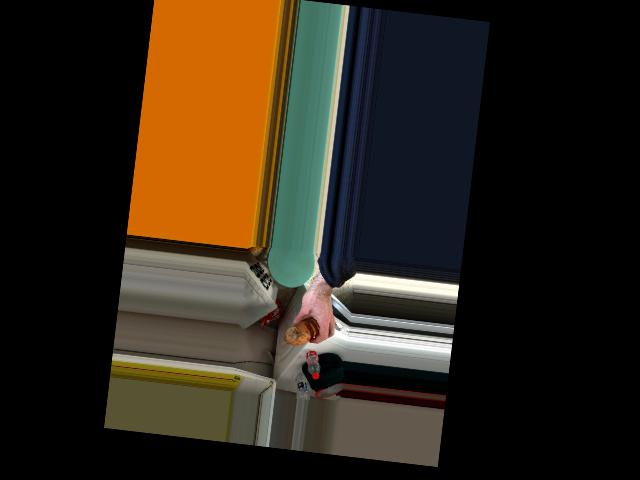sweet_potato: (284, 315, 318, 349)
